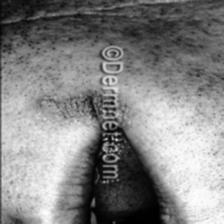Toxin: (40, 92, 100, 128), (118, 98, 140, 129)
